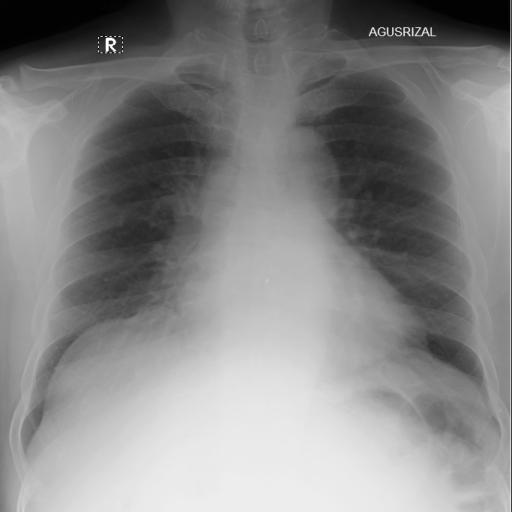kardiomegali: (14, 32, 510, 460)
